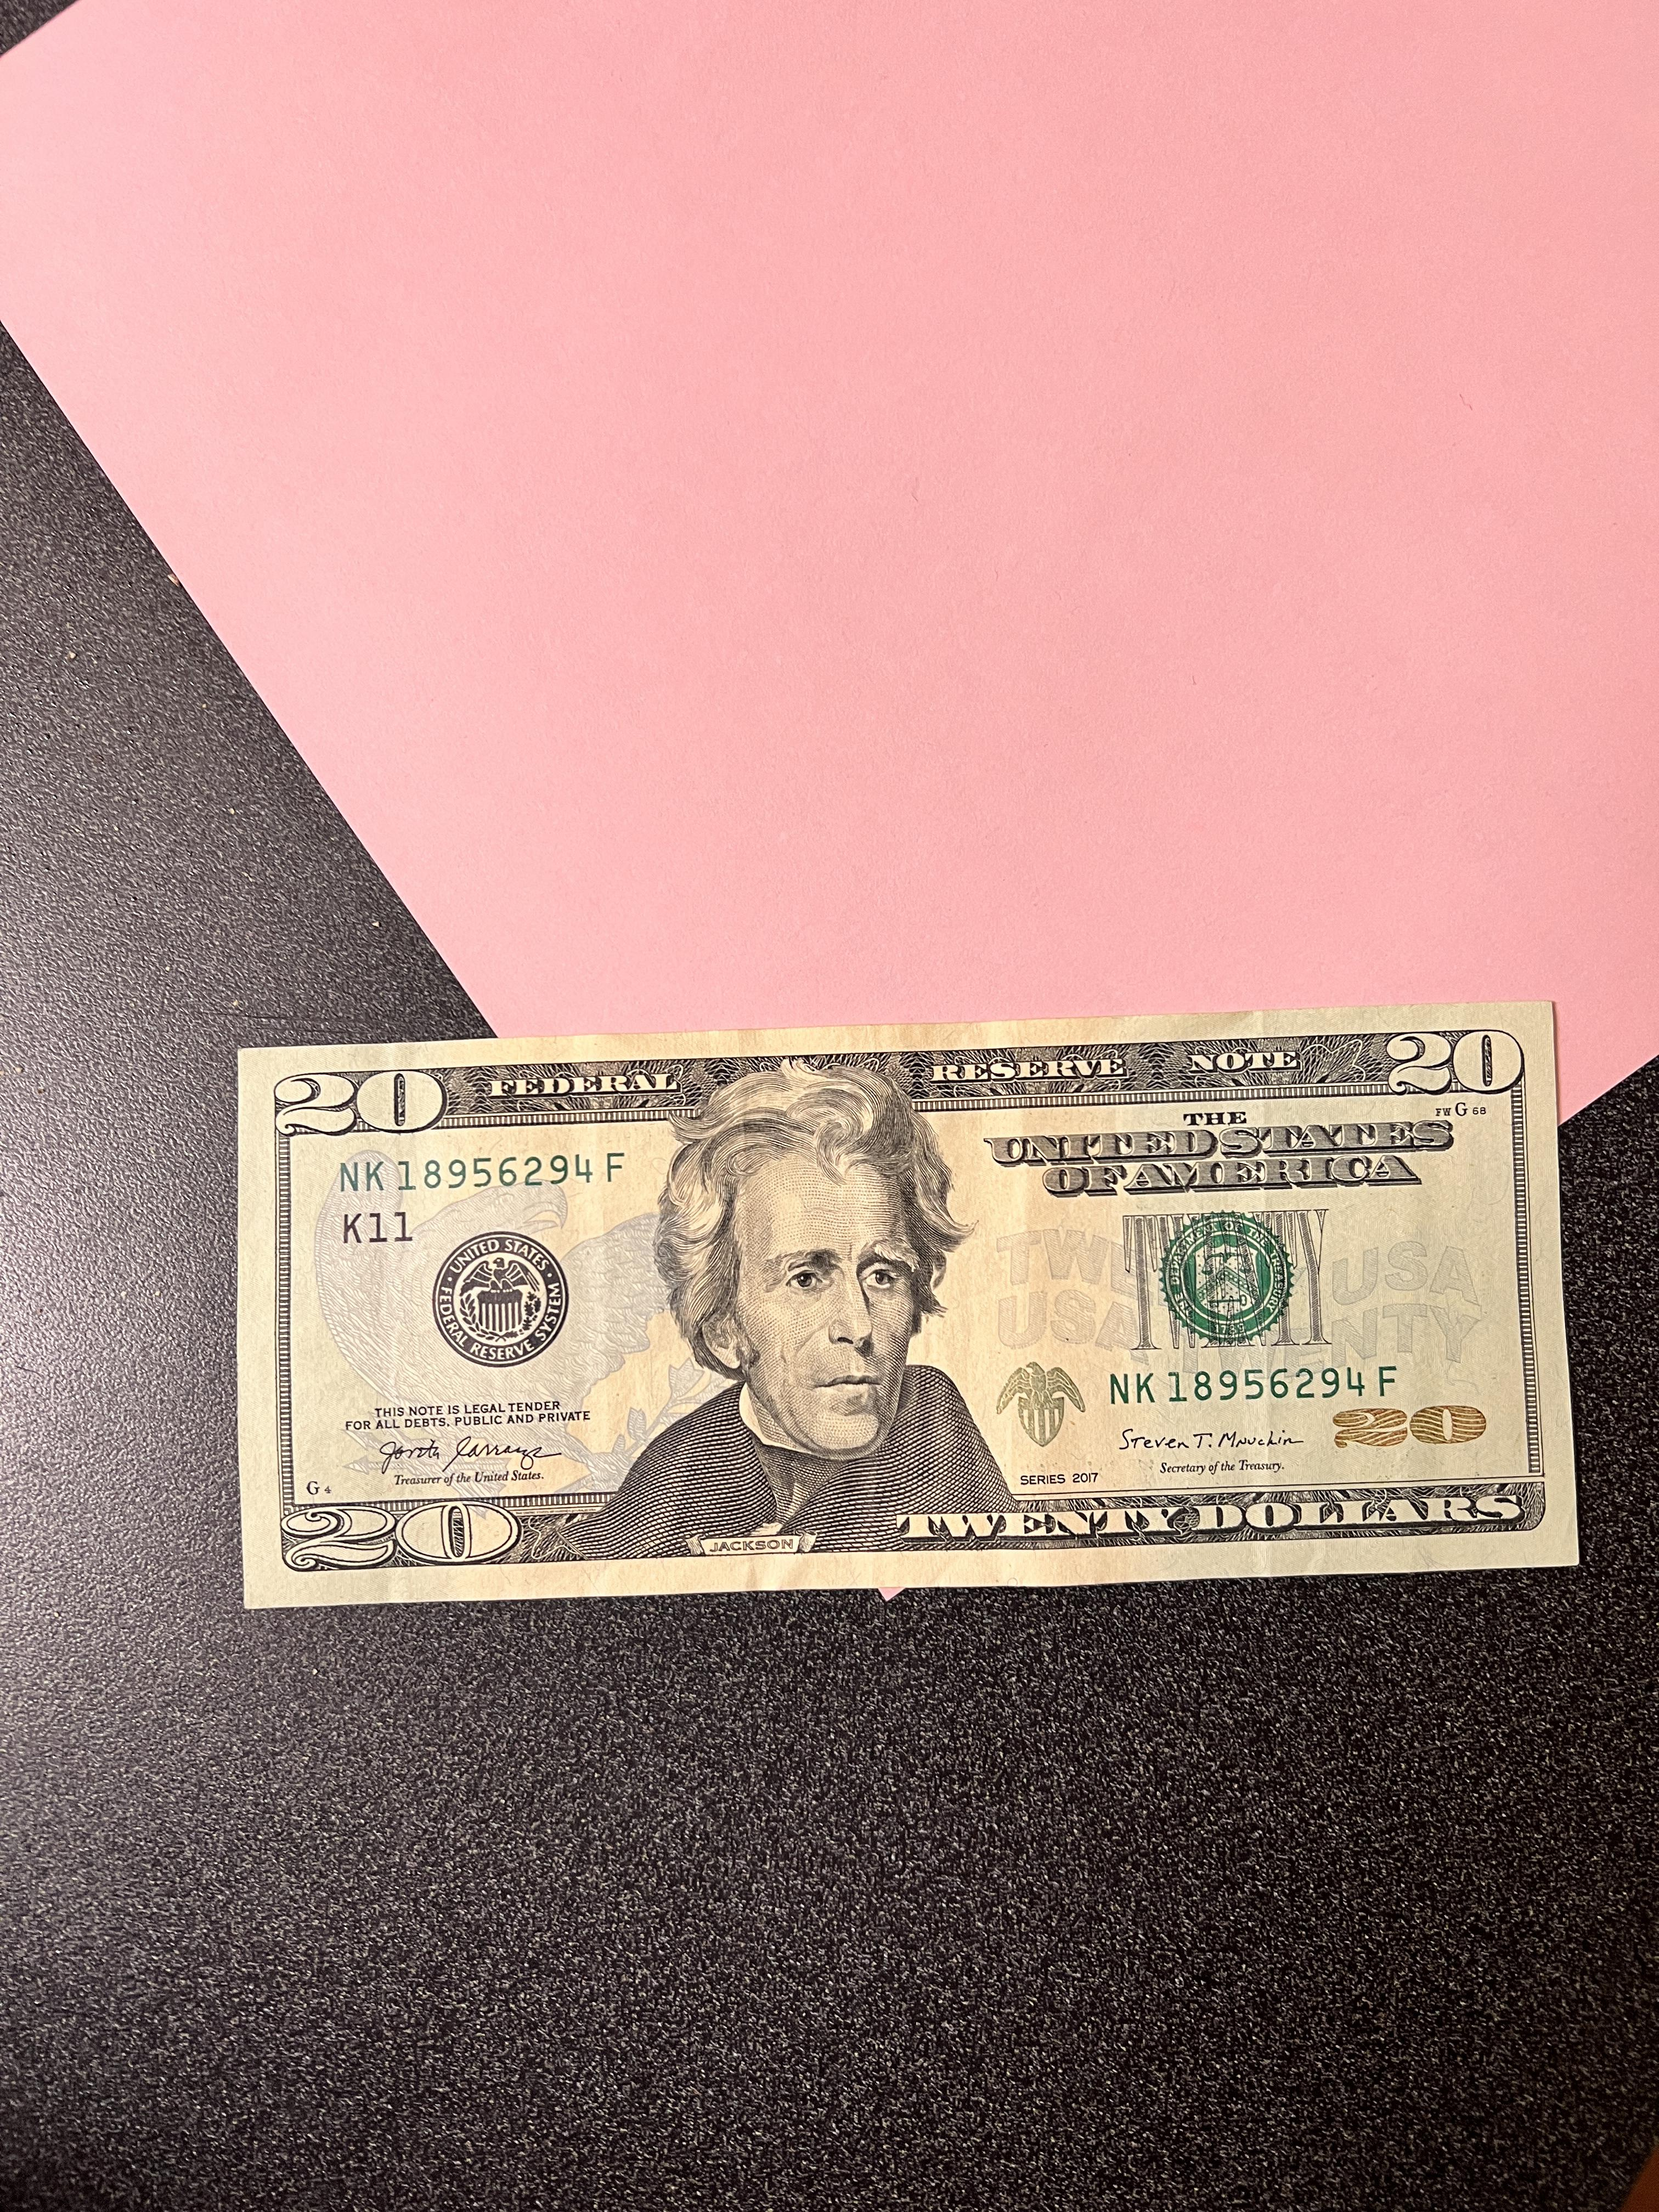TwentyBill: (213, 1031, 1581, 1576)
